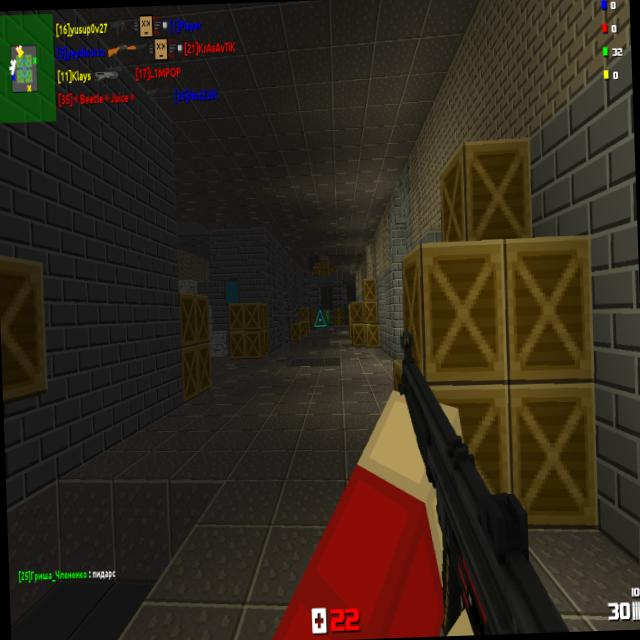enemy: (325, 308, 331, 324)
